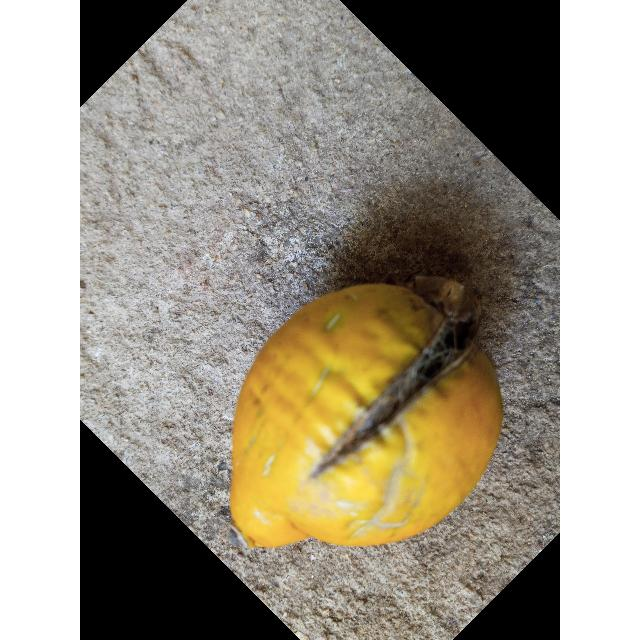damaged: (232, 280, 504, 550)
